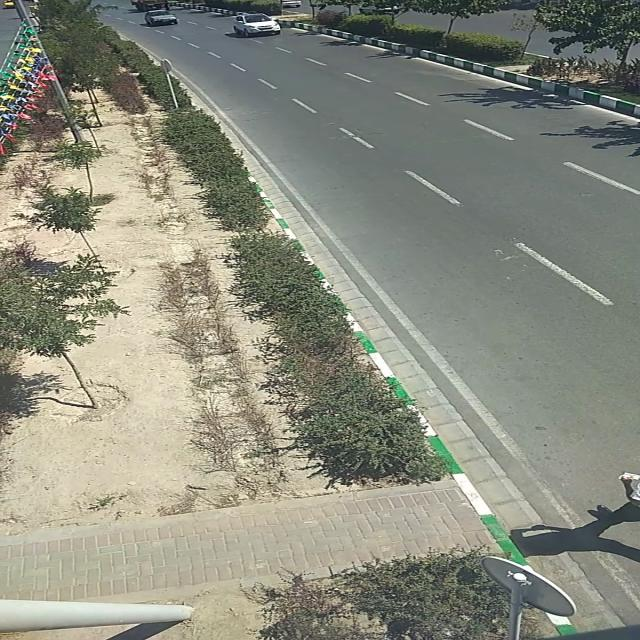car: (232, 15, 278, 37), (143, 11, 178, 25)
